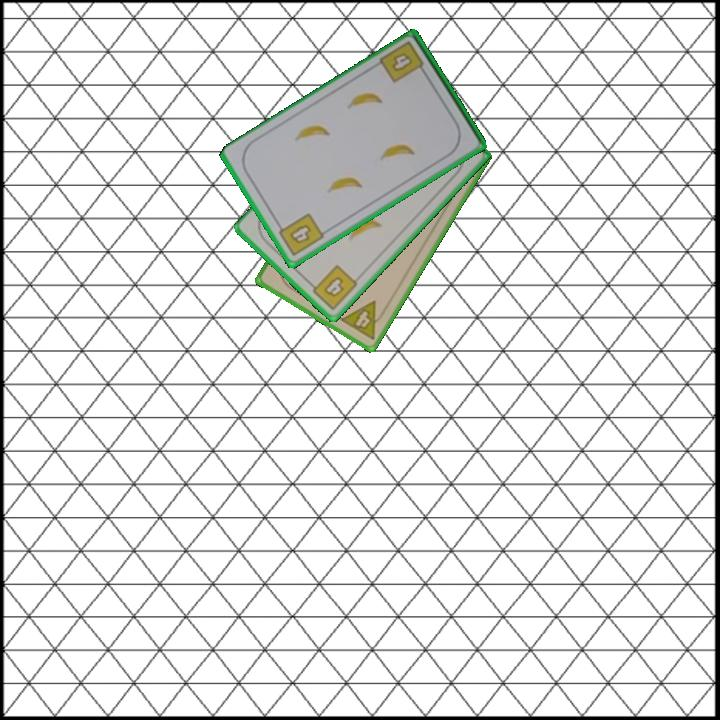4b: (305, 262, 361, 313), (273, 209, 327, 259), (376, 38, 430, 86)
4p: (337, 297, 390, 343)
